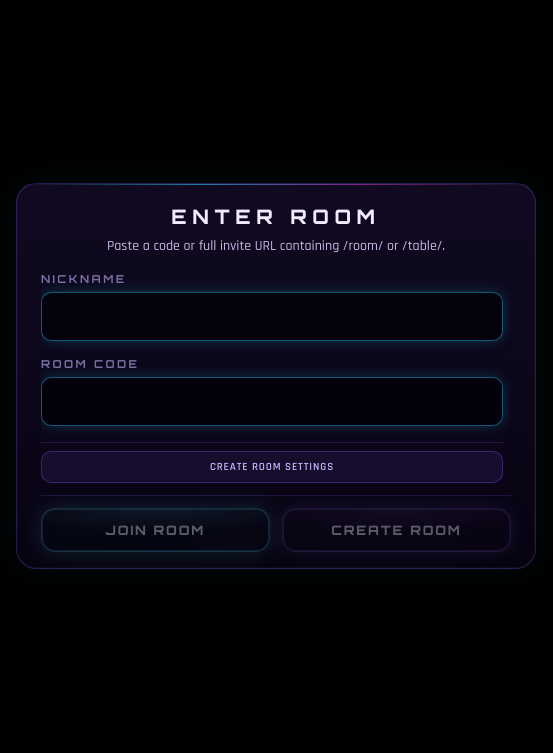
Test: JoinRoomPage backend integration › advanced settings can be expanded and collapsed
Step 1. Click the button "Create room settings" → click(272, 467), box left=41, top=451, right=503, bottom=483
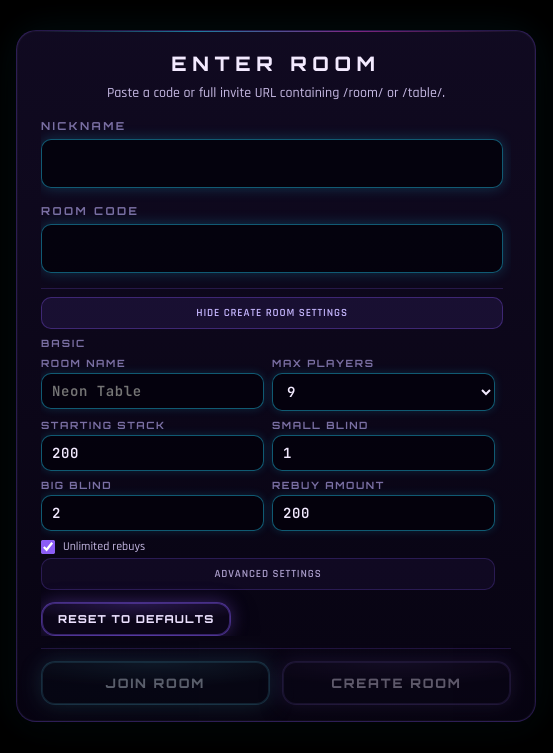
Check: the field labelled "turn time" is not shown
Step 2. Click the button "Advanced settings" → click(268, 574), box left=41, top=558, right=495, bottom=590
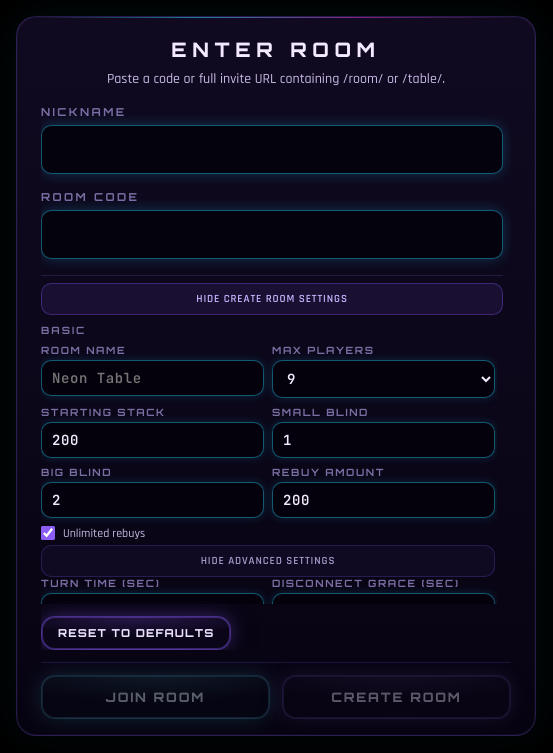
Step 3. Click the button "Hide advanced settings" → click(268, 561), box left=41, top=545, right=495, bottom=577
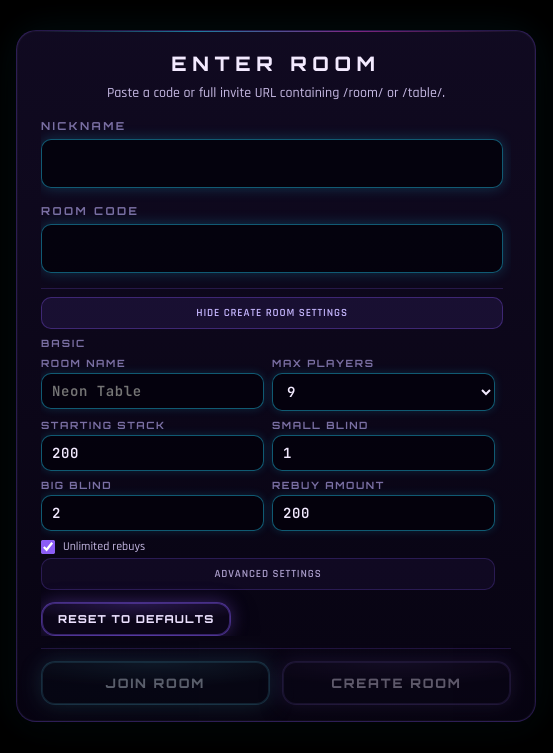
Check: the text labelled "Turn time" is gone
